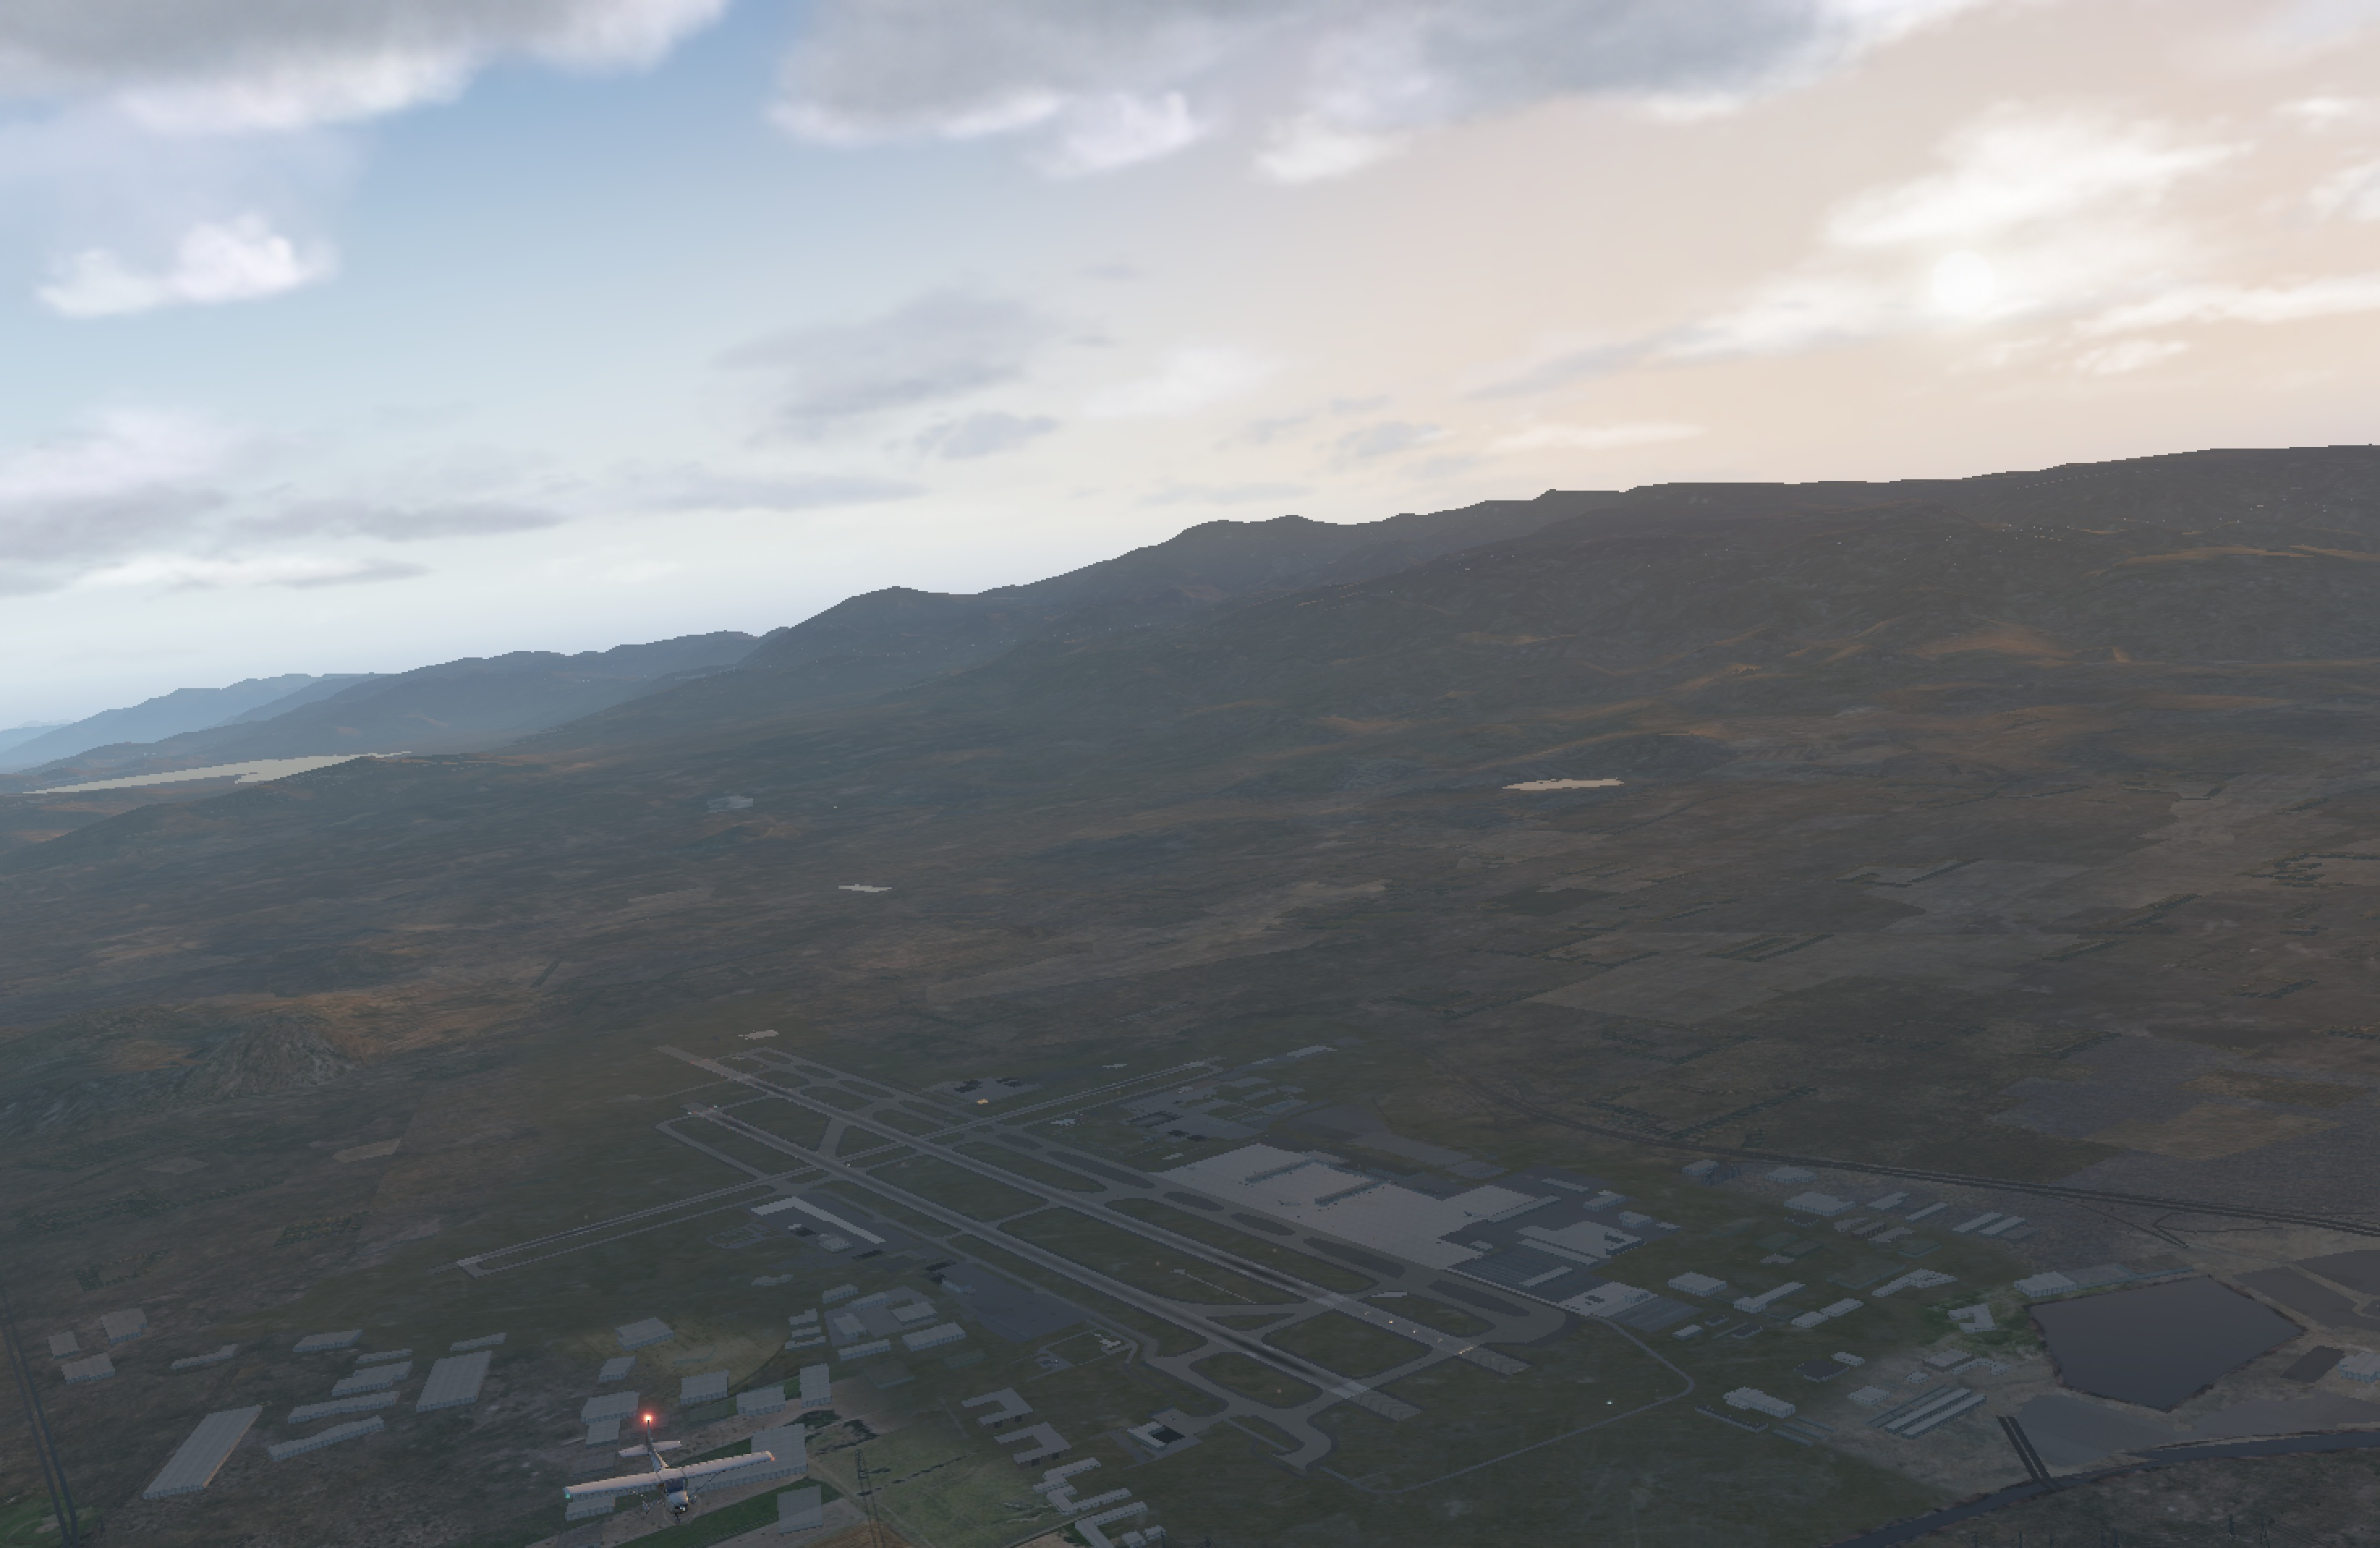aircraft: (604, 1461, 741, 1513)
